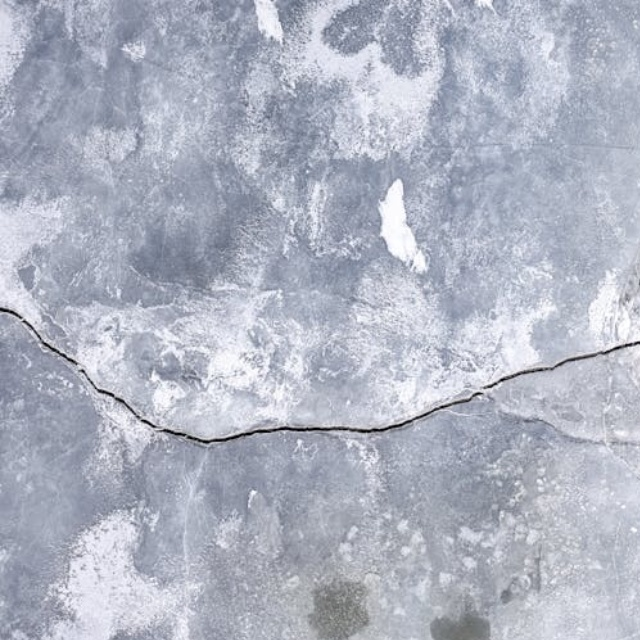细微裂纹: (46, 367, 592, 471), (246, 339, 640, 463)
网状裂隙: (10, 394, 640, 640), (144, 99, 589, 447), (114, 55, 408, 467), (6, 0, 127, 456)
